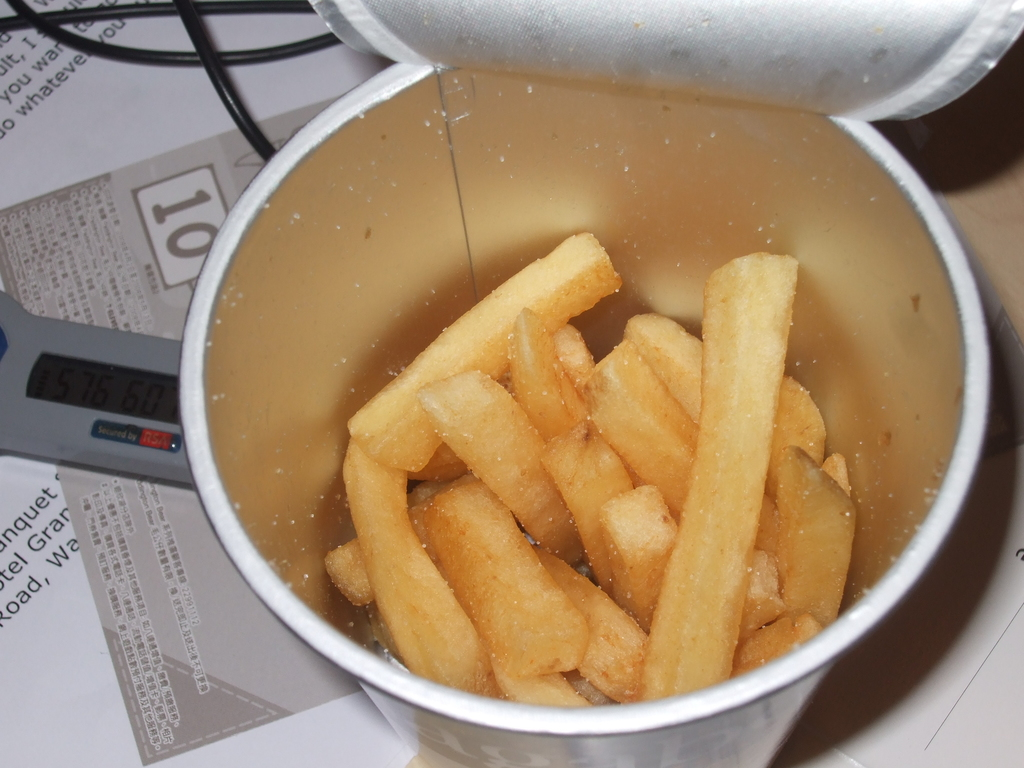French fries: (315, 213, 871, 718)
